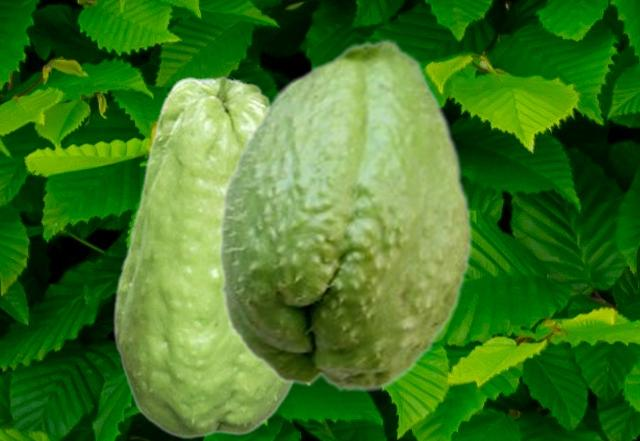sayote: (217, 37, 473, 392), (112, 75, 293, 439)
